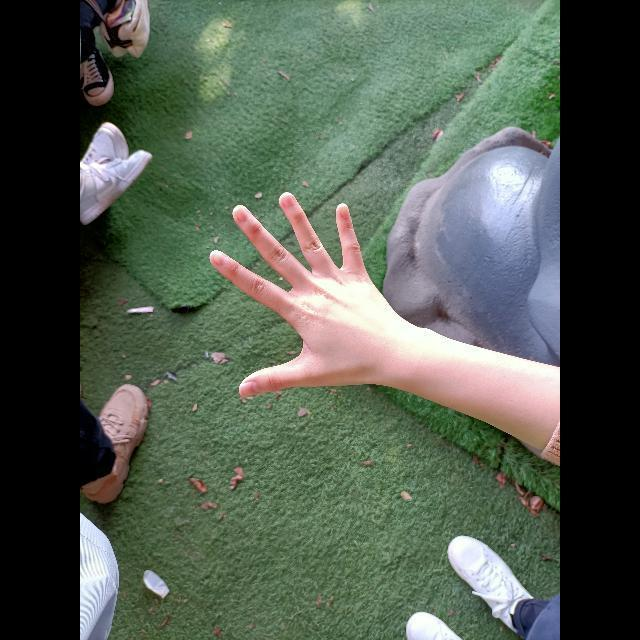bare_hand: (209, 192, 394, 398)
